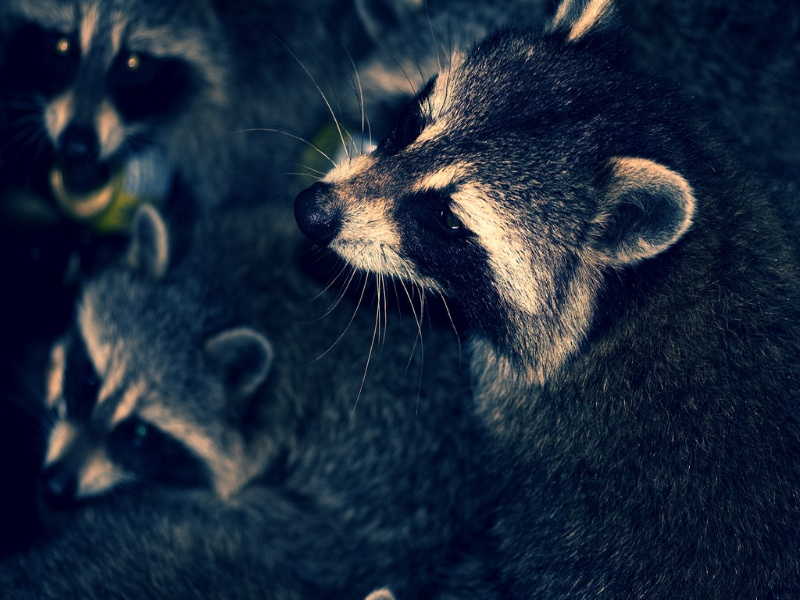raccoon: (292, 9, 795, 597), (19, 199, 455, 596), (13, 1, 307, 194)
